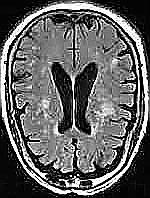Normal_Brain: (2, 2, 150, 198)
